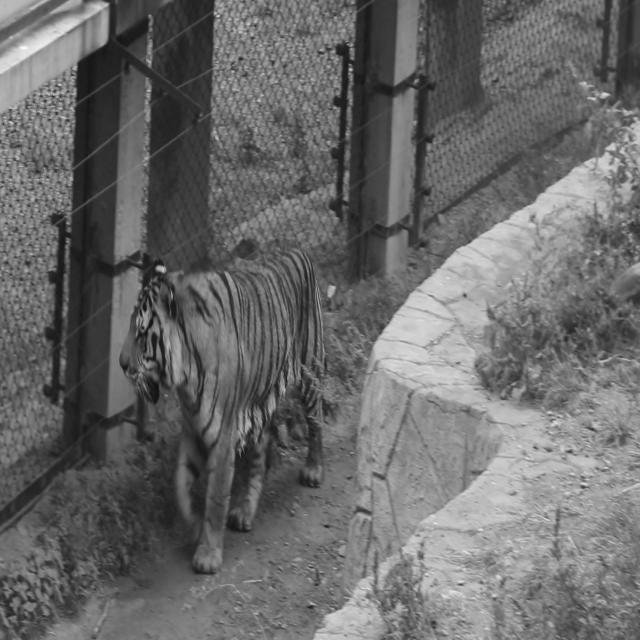Tiger: (118, 238, 327, 574)
